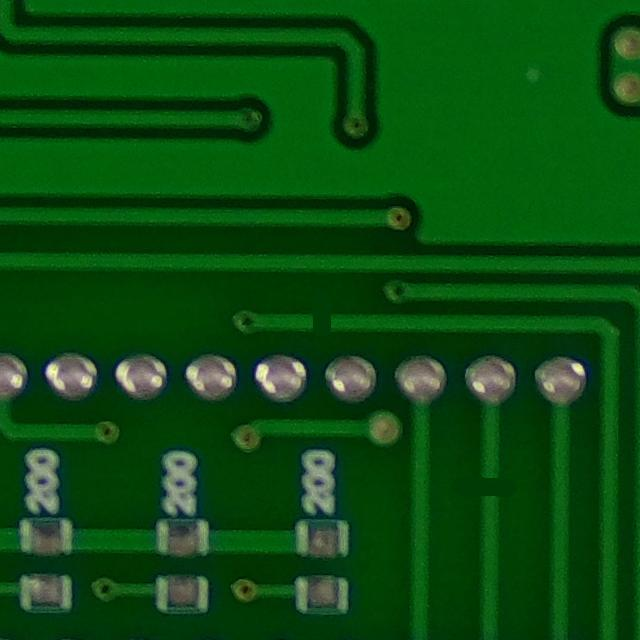open_circuit: (302, 301, 339, 339)
